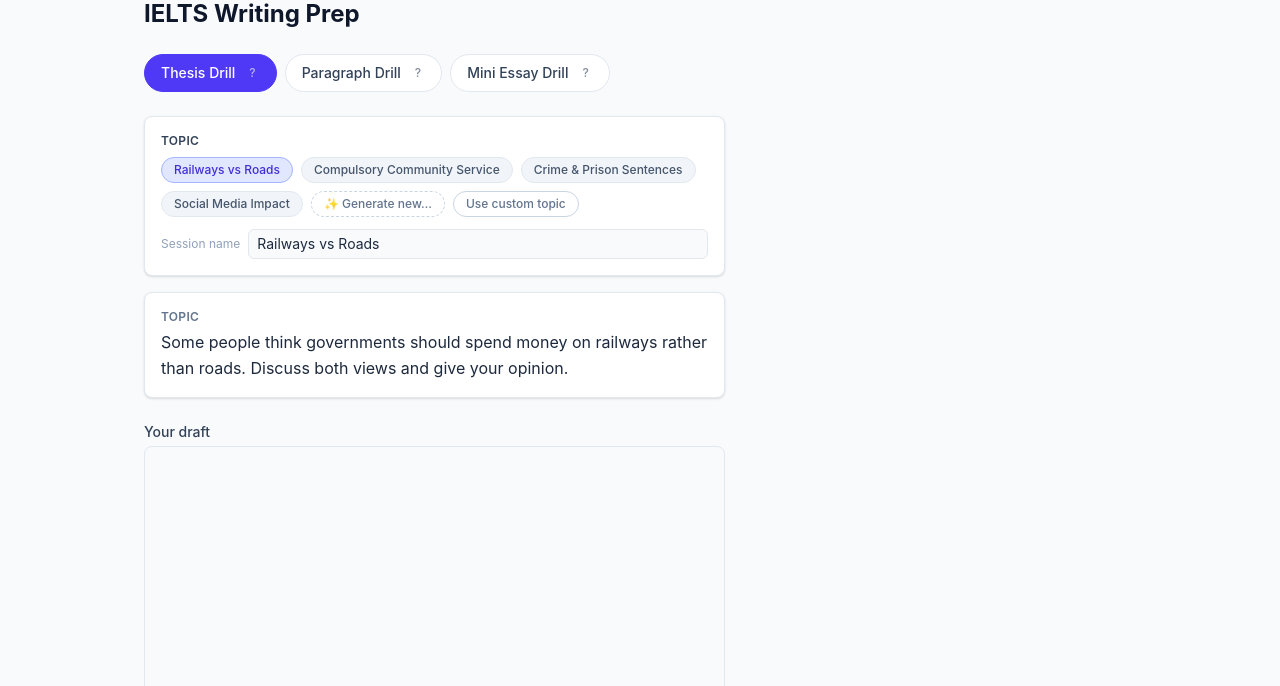
saves practice and reloads from history
Click the button "Thesis Drill": {"x": 198, "y": 73} [161,63,235,83]
(page scrolled)
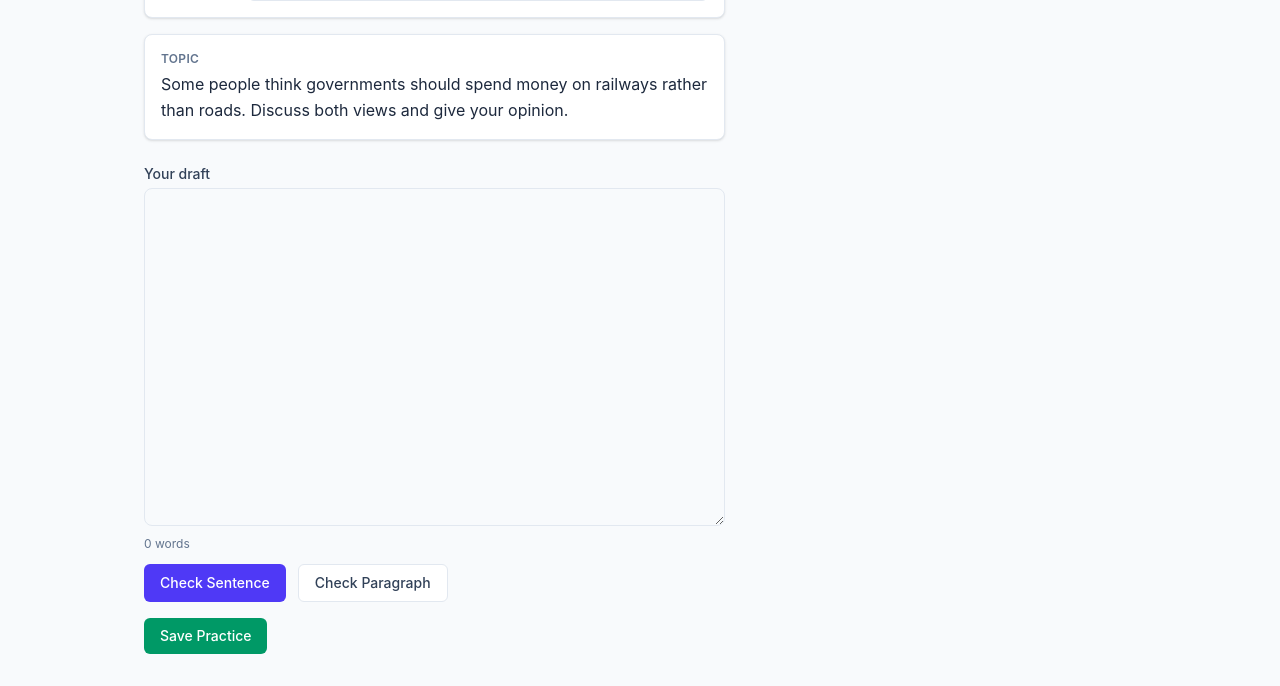
In the text box named "writing draft": {"x": 434, "y": 357} [144,188,725,526], type "My draft text here."
(page scrolled)
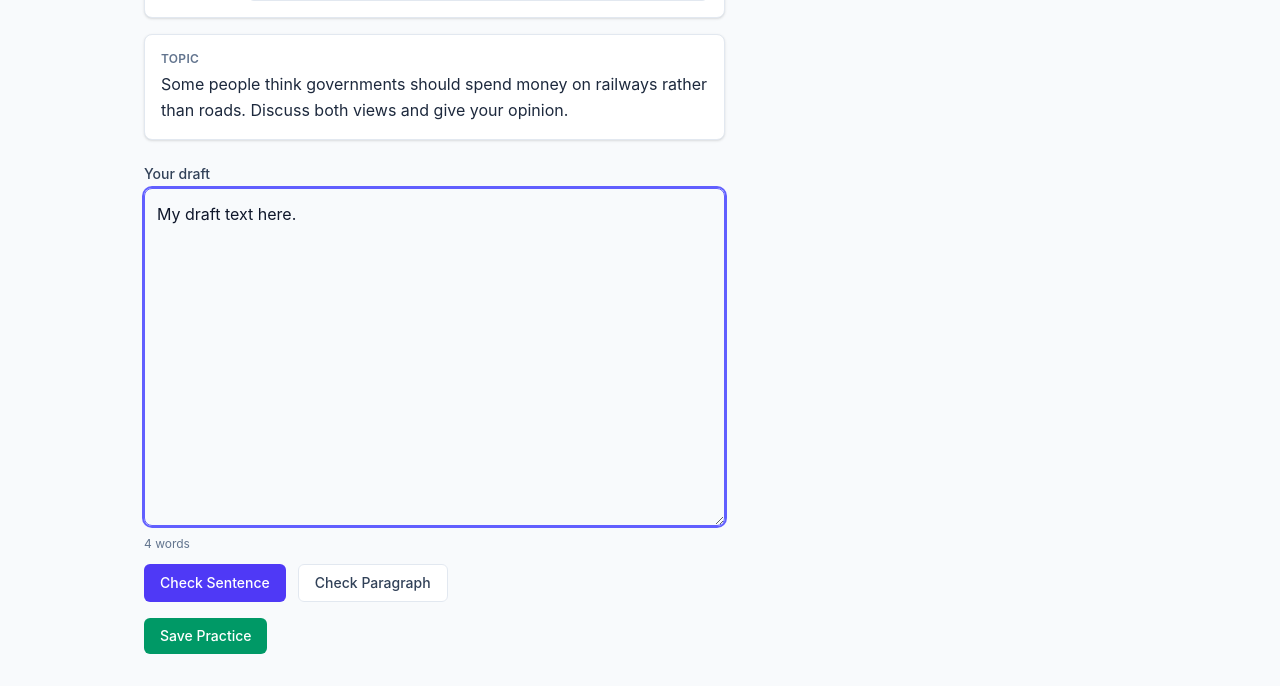
Click the button "Check Sentence": {"x": 215, "y": 583} [144,564,286,602]
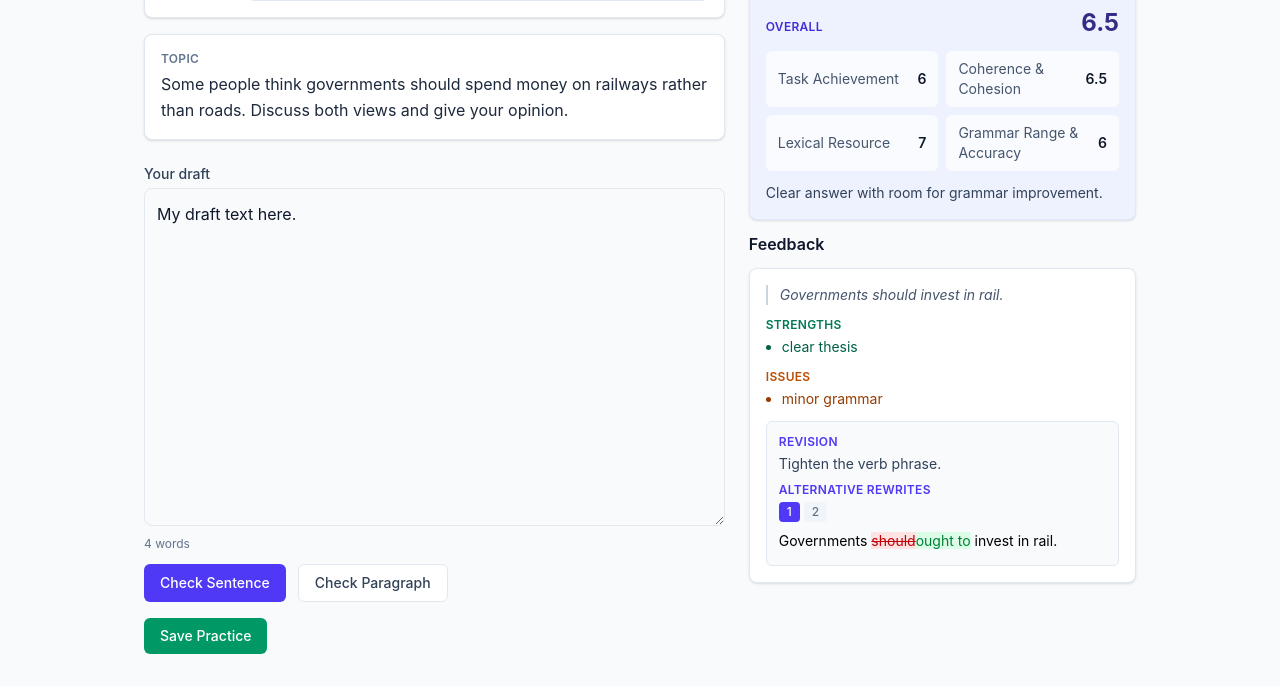
Expected: the list item "clear thesis" is shown, [782,338,858,355]
Expected: the text "Overall" is shown, [766,19,823,35]
Expected: the text "6.5" in the row of "Overall" is shown, [1081,8,1119,37]
Click the button "Save Practice": {"x": 206, "y": 636} [144,618,268,654]
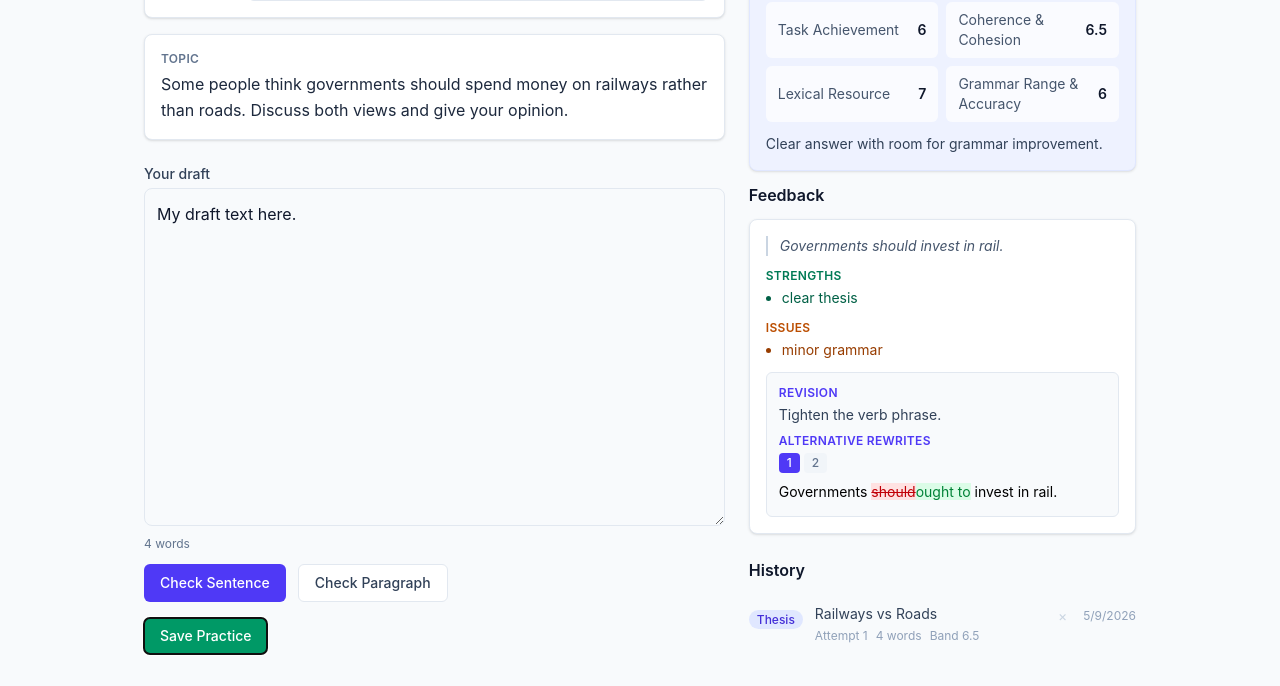
Expected: the 1st text "4 words" is shown, [144,536,190,551]
Expected: the text "Band 6.5" is shown, [930,628,980,644]
